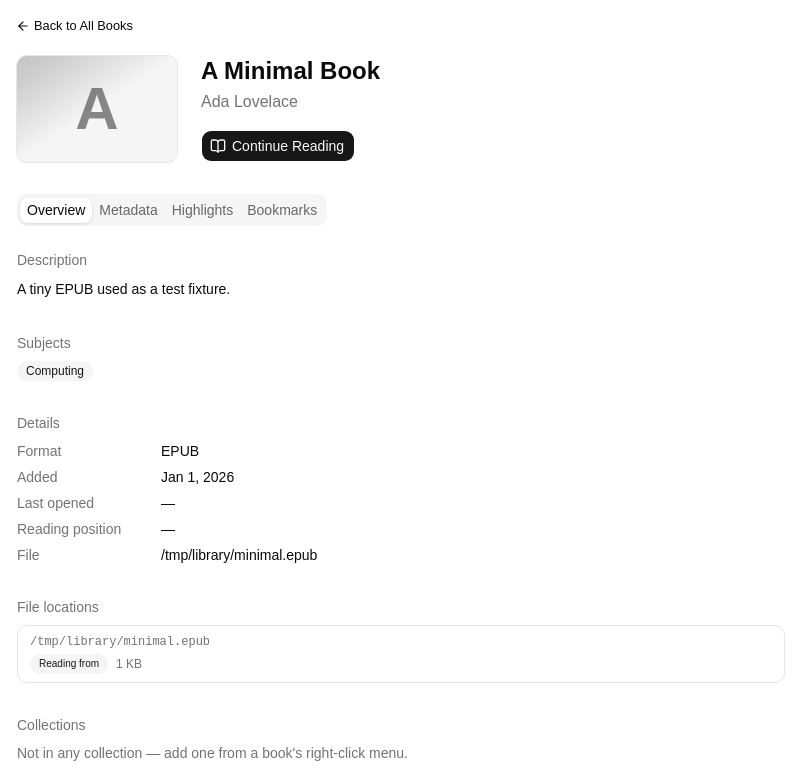
Test: BookDetail › shows the Metadata tab with source divergence and file properties
Click the tab with test id "detail-tab-metadata" at (129, 210), box [92,198,165,222]
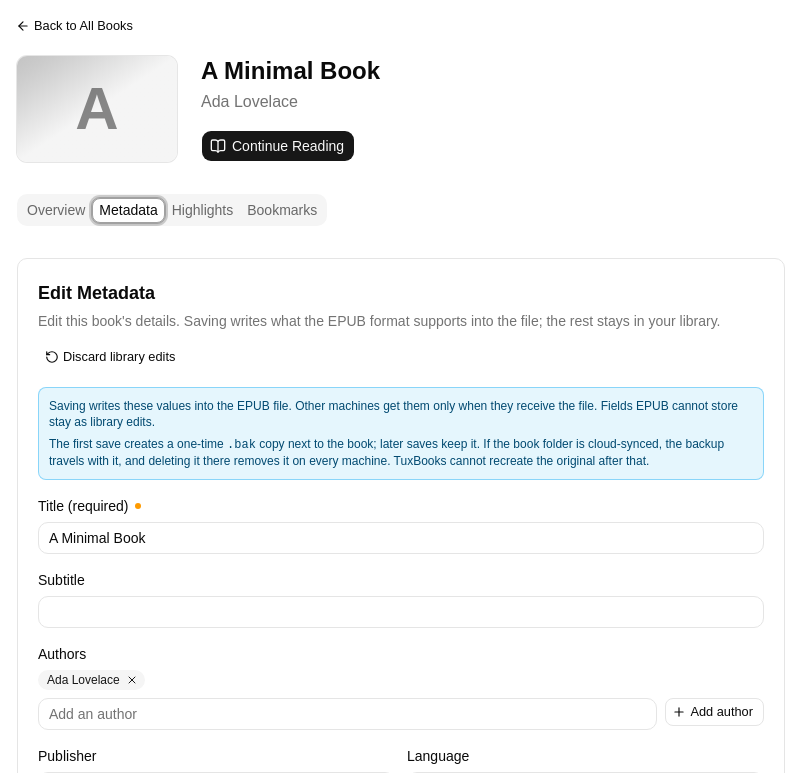
Result: the element with test id "metadata-title-overridden" is shown at [134,503,140,509]
